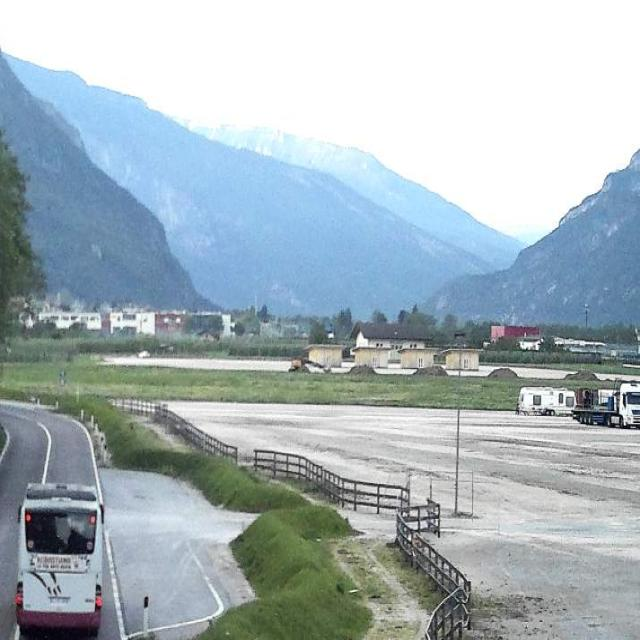bus: (17, 480, 108, 636)
van: (570, 381, 640, 429)
